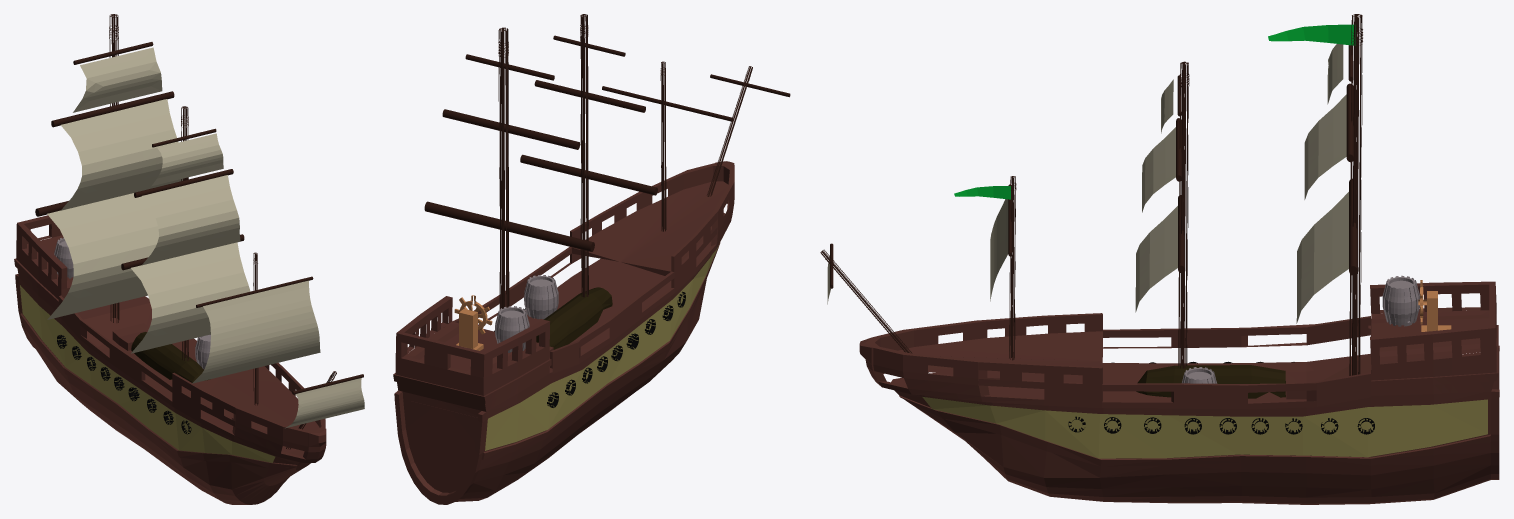
The model's file is Frigate.glb.
3 renders of one model, left to right at view 1: azimuth 30°, elevation 25°; view 2: azimuth 150°, elevation 25°; view 3: azimuth 270°, elevation 25°, orthographic. The views are drawn at different scales.
Parts seen in each view (by area): view 1: Sphere.003, sail_big.004_Plane.009, sail_big_Plane.003, sail_big.001_Plane.004, sail_big.005_Plane.010, body_color_Sphere.002, sail_big.007_Plane.012, sail_big.002_Plane.005, sail_big.006_Plane.011, sail_big.003_Plane.008, Sphere.004, Cylinder.024_Cylinder.004 (+6 smaller); view 2: Sphere.003, body_color_Sphere.002, Circle.020_Circle.025, Sphere.004, Circle.022_Circle.003, Cylinder.000, Cylinder.027_Cylinder.007, Cylinder.002, Cylinder.024_Cylinder.004, Cylinder.028_Cylinder.017, Circle.005, Cylinder.003 (+5 smaller); view 3: Sphere.003, body_color_Sphere.002, sail_big.004_Plane.009, Circle.020_Circle.025, sail_big.001_Plane.004, sail_big.005_Plane.010, Circle.022_Circle.003, Sphere.004, Cylinder.028_Cylinder.017, sail_big.007_Plane.012, flag_Plane.006, sail_big_Plane.003 (+2 smaller).
Boxes of the visible parts, left/top/right/bottom form: Sphere.003: left=14, top=215, right=326, bottom=504; sail_big.004_Plane.009: left=47, top=193, right=158, bottom=319; sail_big_Plane.003: left=192, top=280, right=320, bottom=383; sail_big.001_Plane.004: left=61, top=99, right=182, bottom=210; sail_big.005_Plane.010: left=131, top=242, right=250, bottom=353; body_color_Sphere.002: left=20, top=285, right=275, bottom=462; sail_big.007_Plane.012: left=141, top=175, right=240, bottom=265; sail_big.002_Plane.005: left=73, top=47, right=162, bottom=112; sail_big.006_Plane.011: left=151, top=133, right=223, bottom=186; sail_big.003_Plane.008: left=285, top=378, right=364, bottom=428; Sphere.004: left=131, top=332, right=210, bottom=382; Cylinder.024_Cylinder.004: left=51, top=91, right=174, bottom=127; Sphere.003: left=393, top=161, right=734, bottom=504; body_color_Sphere.002: left=485, top=243, right=719, bottom=450; Circle.020_Circle.025: left=498, top=27, right=509, bottom=309; Sphere.004: left=536, top=287, right=612, bottom=349; Circle.022_Circle.003: left=580, top=14, right=588, bottom=297; Cylinder.000: left=424, top=201, right=594, bottom=251; Cylinder.027_Cylinder.007: left=524, top=275, right=558, bottom=319; Cylinder.002: left=520, top=154, right=657, bottom=195; Cylinder.024_Cylinder.004: left=442, top=109, right=580, bottom=149; Cylinder.028_Cylinder.017: left=495, top=306, right=529, bottom=352; Circle.005: left=660, top=61, right=666, bottom=231; Cylinder.003: left=534, top=80, right=645, bottom=112; Sphere.003: left=859, top=281, right=1499, bottom=504; body_color_Sphere.002: left=922, top=397, right=1487, bottom=458; sail_big.004_Plane.009: left=1296, top=192, right=1348, bottom=323; Circle.020_Circle.025: left=1349, top=14, right=1362, bottom=375; sail_big.001_Plane.004: left=1304, top=94, right=1346, bottom=199; sail_big.005_Plane.010: left=1135, top=206, right=1177, bottom=312; Circle.022_Circle.003: left=1178, top=61, right=1189, bottom=368; Sphere.004: left=1136, top=365, right=1285, bottom=398; Cylinder.028_Cylinder.017: left=1382, top=275, right=1419, bottom=326; sail_big.007_Plane.012: left=1142, top=127, right=1175, bottom=212; flag_Plane.006: left=1268, top=24, right=1355, bottom=45; sail_big_Plane.003: left=990, top=199, right=1008, bottom=301.
Bounding box in the file's own units: 1.13 × 2.86 × 3.62.
